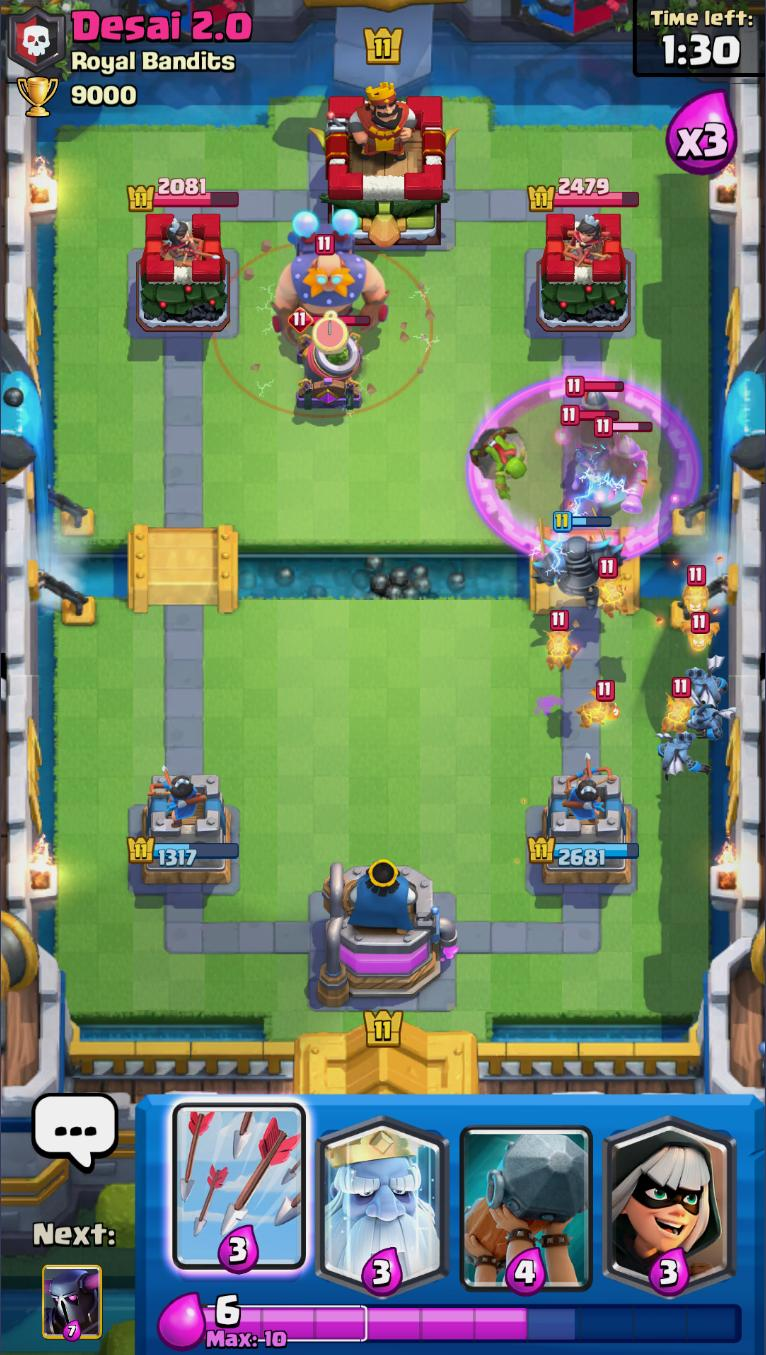ArrowDeck: (167, 1095, 310, 1296)
BanditDeck: (599, 1094, 744, 1296)
BattleRamDeck: (456, 1094, 598, 1295)
ElectroGiant: (272, 208, 390, 346)
Elixir: (203, 1295, 744, 1350)
EnemyTower: (533, 208, 631, 331), (133, 210, 229, 335)
EvoMortar: (288, 310, 374, 416)
KingTower: (308, 82, 456, 248)
LavaHoundMini: (576, 678, 623, 733), (544, 611, 576, 673), (596, 558, 629, 618), (660, 677, 694, 735), (681, 564, 711, 616), (678, 612, 717, 652)
Musketeer: (558, 404, 618, 507), (593, 416, 652, 511), (563, 376, 624, 430)
MyKingTower: (319, 856, 458, 1009)
MyMinion: (679, 691, 740, 746), (654, 730, 710, 781), (681, 654, 731, 706)
MyPekka: (531, 510, 628, 615)
MyPrincessTower: (524, 771, 639, 887), (125, 769, 238, 887)
MyPrincessTowerHP: (125, 836, 238, 868), (525, 835, 637, 867)
PekkaNext: (41, 1264, 106, 1344)
PrincessTower: (555, 213, 612, 264), (148, 214, 204, 264)
Rage: (470, 374, 697, 564)
RoyaleGhostDeck: (311, 1095, 455, 1296)
TowerPrincessHP: (126, 178, 239, 213), (526, 178, 639, 212)
